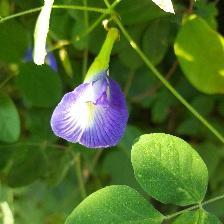shankupushpam: (50, 69, 134, 153)
